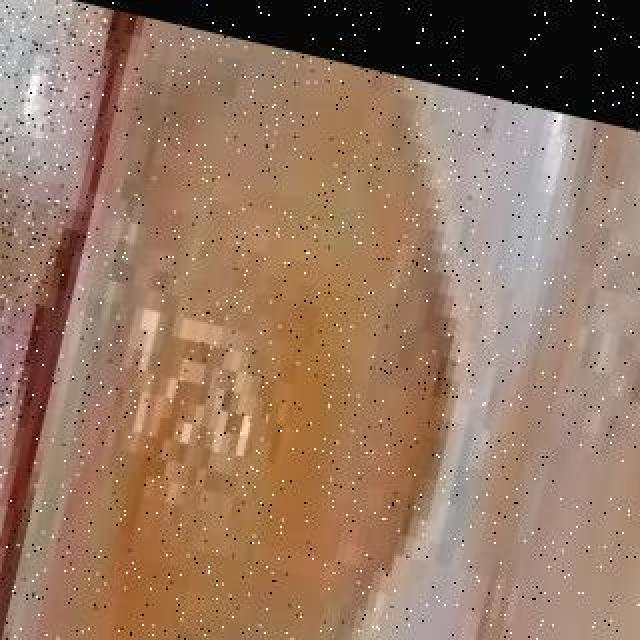cavities: (54, 0, 466, 640), (0, 0, 30, 640)
